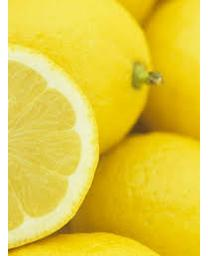lemon: (8, 0, 154, 156), (9, 43, 101, 249)
